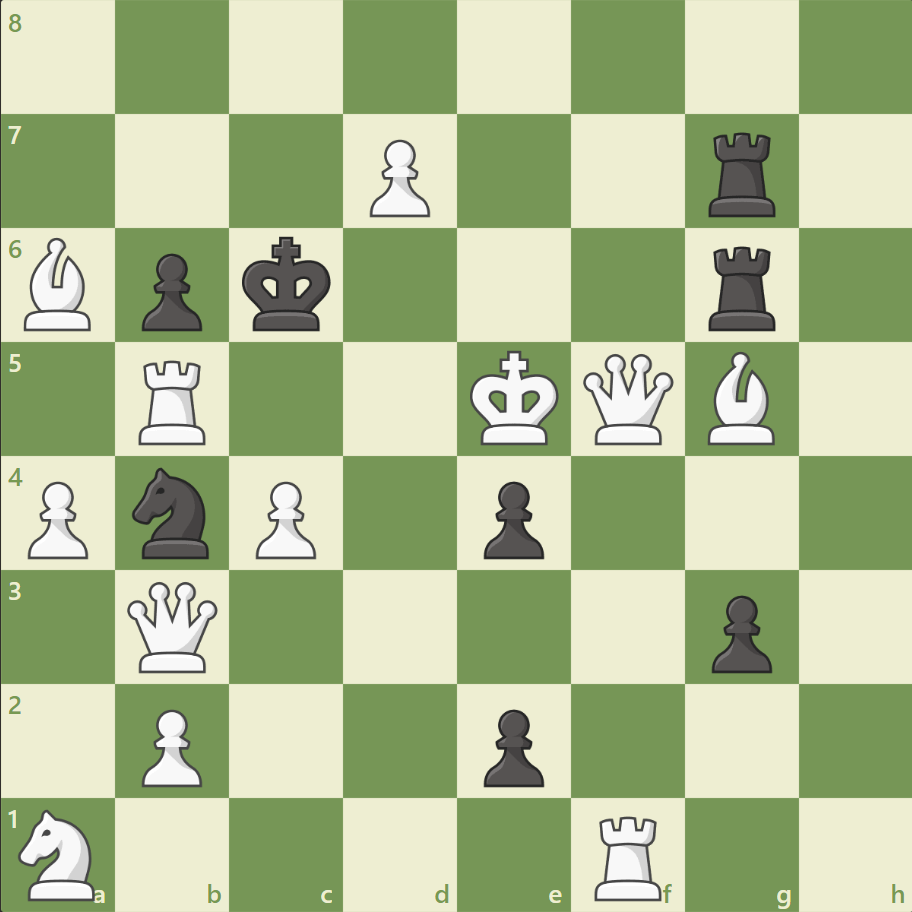B: (17, 233, 101, 336), (698, 347, 782, 449)
K: (465, 344, 565, 452)
N: (11, 802, 108, 904)
P: (20, 473, 95, 564), (247, 473, 322, 564), (133, 700, 208, 791), (361, 132, 435, 223)
Q: (578, 349, 677, 449), (124, 576, 223, 676)
R: (587, 806, 670, 904), (133, 352, 215, 449)
k: (238, 231, 338, 339)
n: (124, 461, 222, 564)
p: (133, 246, 208, 337), (474, 473, 549, 564), (701, 586, 776, 677), (474, 700, 549, 791)
r: (700, 125, 783, 222), (700, 239, 783, 336)
